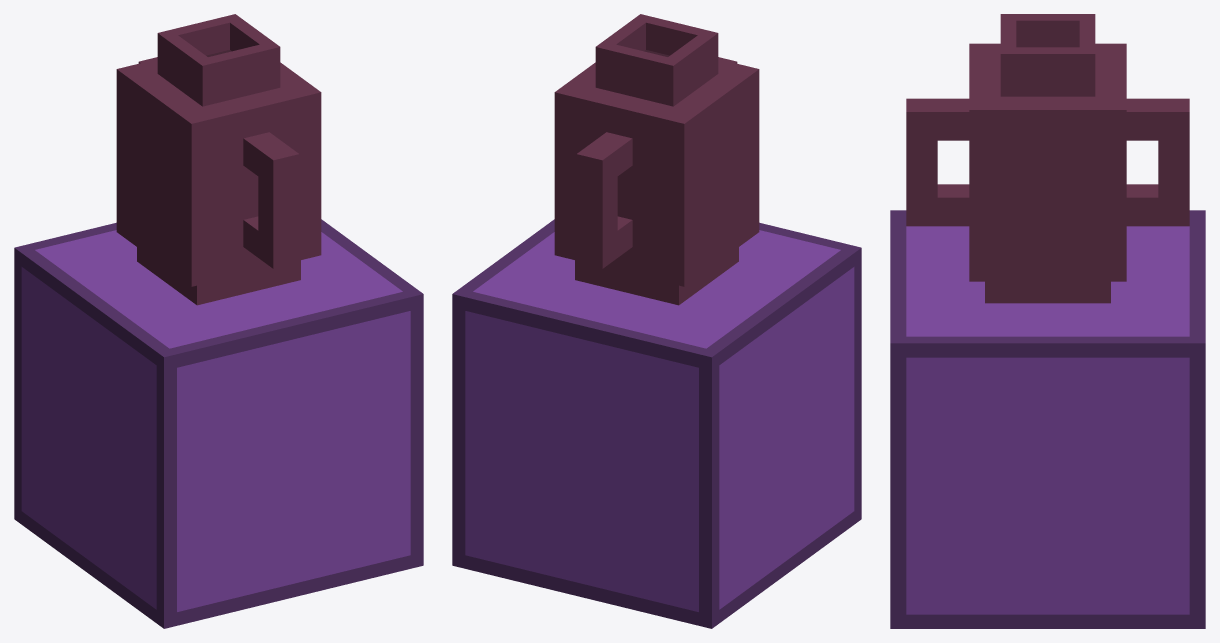
The model's file is vase.obj.
3 renders of one model, left to right at view 1: azimuth 30°, elevation 25°; view 2: azimuth 150°, elevation 25°; view 3: azimuth 270°, elevation 25°, orthographic. The views are drawn at different scales.
Bounding box in the file's own units: 2 × 3.7 × 2.
Materials: 1 (1 with a texture image).
